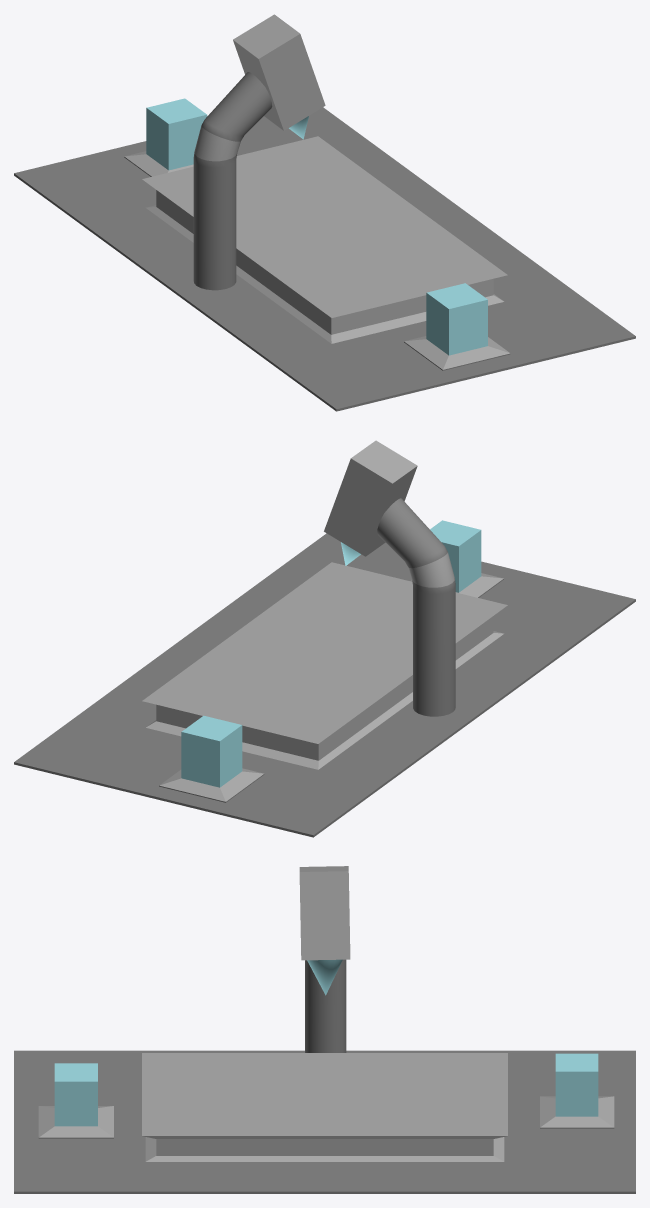
Rendered from DroneBuilder.fbx.
The picture shows the model from 3 angles, top to bottom: view 1: azimuth 30°, elevation 25°; view 2: azimuth 150°, elevation 25°; view 3: azimuth 270°, elevation 25°; orthographic projection. The views are drawn at different scales.
Visible parts, largest first — view 1: pCube18; view 2: pCube18; view 3: pCube18.
Part boxes in pixels (x1,y1,x2,y2): pCube18: [14, 14, 635, 411]; pCube18: [14, 440, 635, 837]; pCube18: [14, 866, 635, 1193].
Size of the model in its own units: 49.79 by 40.56 by 92.86.
